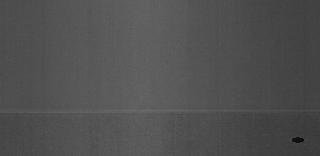punching hole: (290, 135, 306, 145)
welding line: (3, 104, 319, 118)
